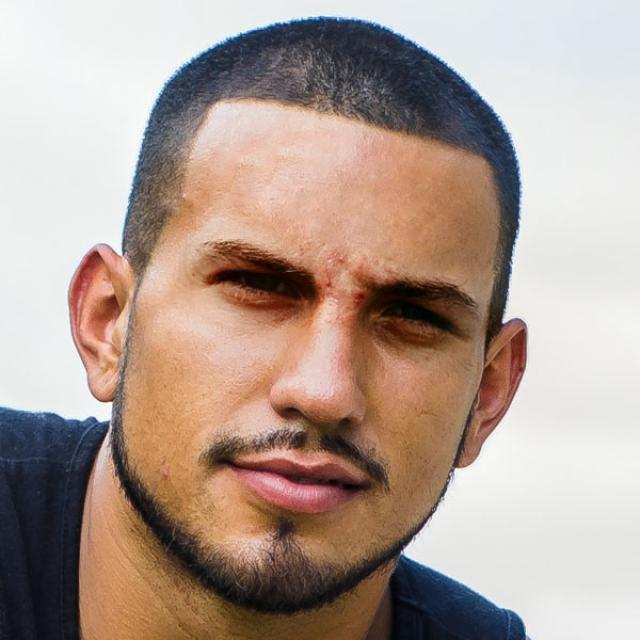face: (64, 14, 530, 612)
